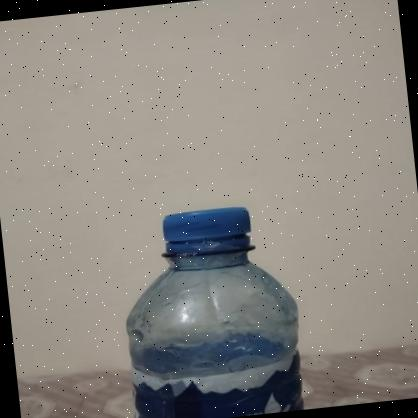cap: (158, 204, 254, 254)
label: (129, 354, 307, 418)
